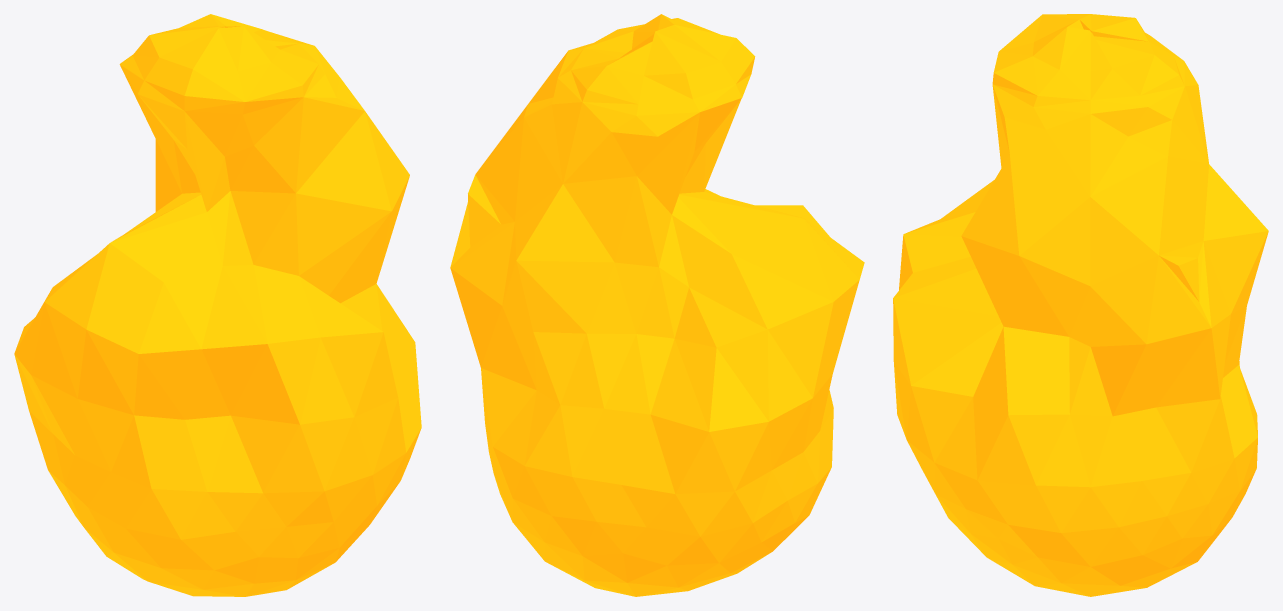
File: fire.glb
The picture shows the model from 3 angles, left to right: view 1: azimuth 30°, elevation 25°; view 2: azimuth 150°, elevation 25°; view 3: azimuth 270°, elevation 25°; orthographic projection. The views are drawn at different scales.
Parts seen in each view (by area): view 1: Icosphere_2_0; view 2: Icosphere_2_0; view 3: Icosphere_2_0.
Part boxes in pixels (x1,y1,x2,y2): Icosphere_2_0: (14, 14, 421, 596); Icosphere_2_0: (450, 14, 864, 596); Icosphere_2_0: (893, 14, 1268, 596).
Bounding box in the file's own units: 1.09 × 1.71 × 1.05.
